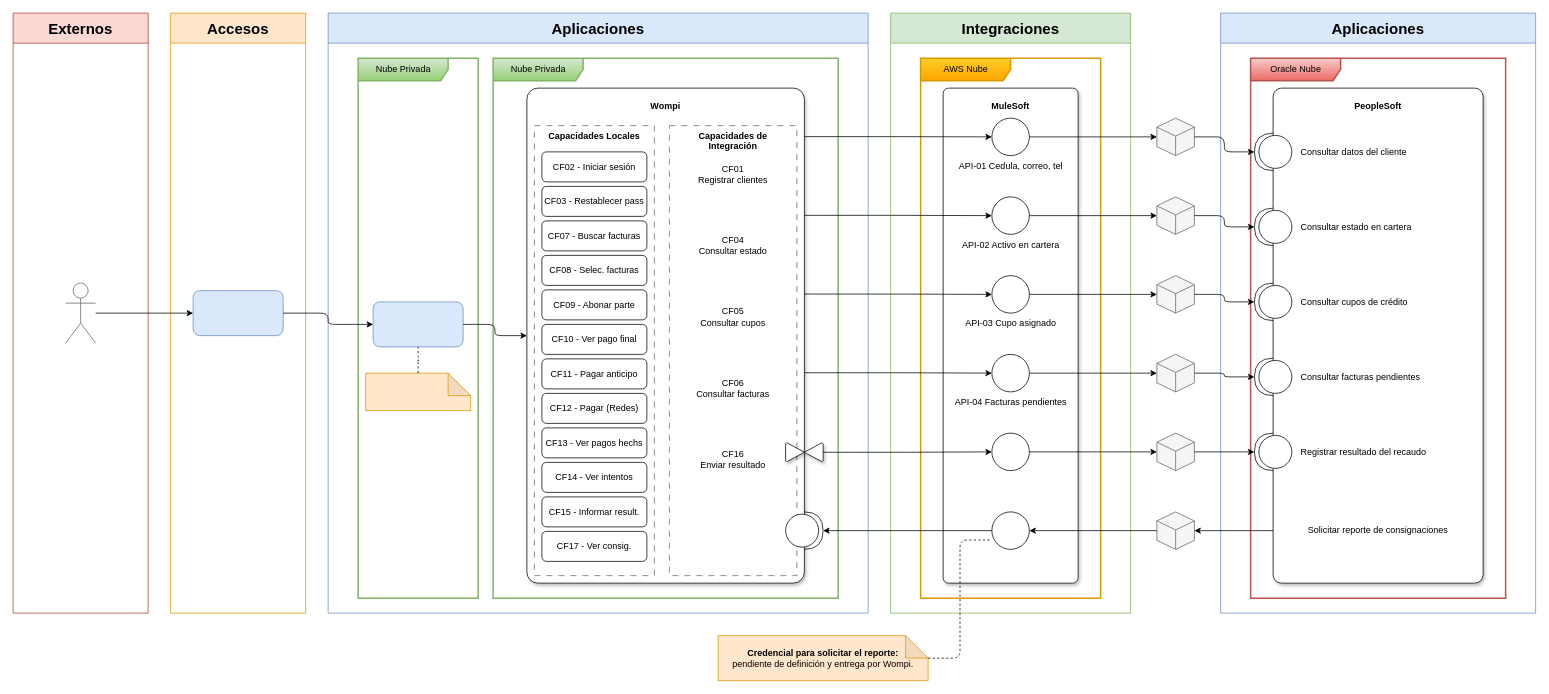
The diagram is 1549 pixels wide and 694 high, and some of its shapes have lost their labels. The centre of each missing label's shape, as x and y in pixels:
"API-05 Recibir resultado" belongs at point (1010, 451).
"API-06 Solicitar reporte consig." belongs at point (1010, 530).
"Browser" belongs at point (237, 313).
"CF18 Reporte consignaciones" belongs at point (804, 530).
"Cliente B2B" belongs at point (80, 312).
"Modalidad de acceso: por confirmar" belongs at point (418, 391).
"WebHook" belongs at point (805, 453).
"WordPress (corbeta.com)" belongs at point (417, 324).
